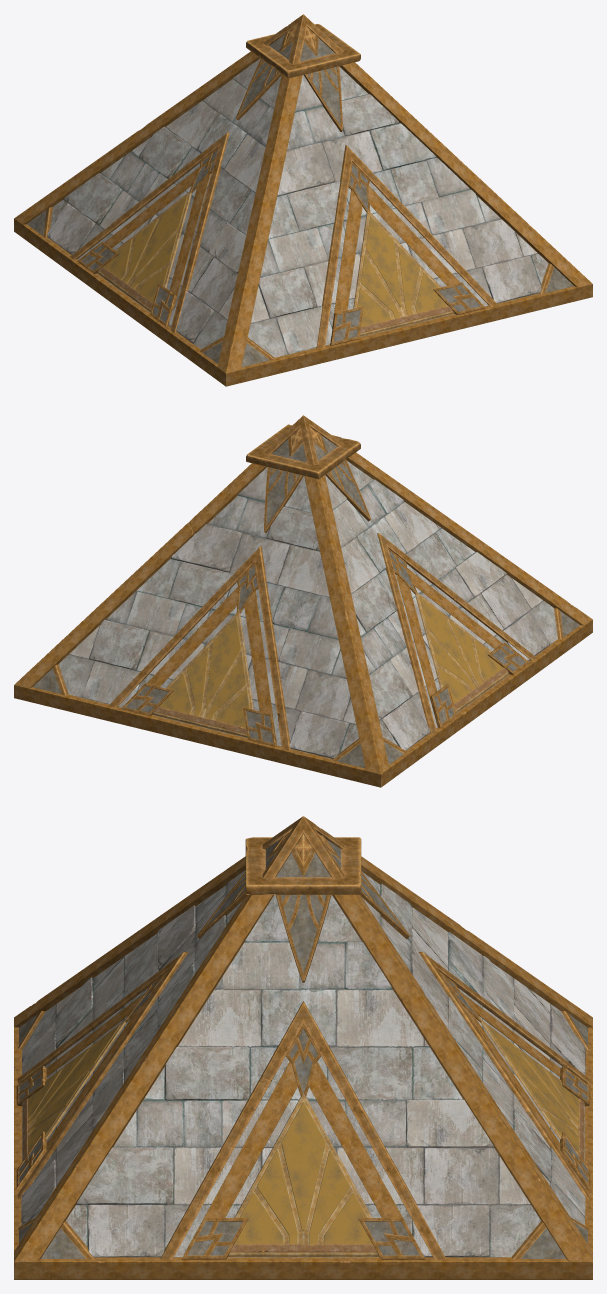
The picture shows the model from 3 angles, top to bottom: view 1: azimuth 30°, elevation 25°; view 2: azimuth 150°, elevation 25°; view 3: azimuth 270°, elevation 25°; orthographic projection. The views are drawn at different scales.
Parts seen in each view (by area): view 1: SM_DK_Pyramid_Top_01v1_LOD0; view 2: SM_DK_Pyramid_Top_01v1_LOD0; view 3: SM_DK_Pyramid_Top_01v1_LOD0.
Part boxes in pixels (x1=…): SM_DK_Pyramid_Top_01v1_LOD0: x1=14, y1=14, x2=592, y2=386; SM_DK_Pyramid_Top_01v1_LOD0: x1=14, y1=415, x2=592, y2=787; SM_DK_Pyramid_Top_01v1_LOD0: x1=14, y1=816, x2=592, y2=1279.
Size of the model in its own units: 35.66 by 23.21 by 35.66.
Materials: 4 (4 with a texture image).
